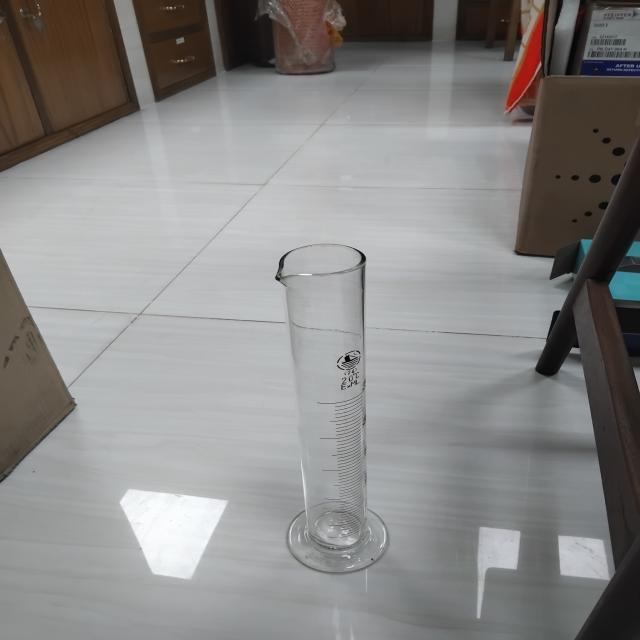Measuring_Cylinder: (232, 180, 445, 599)
